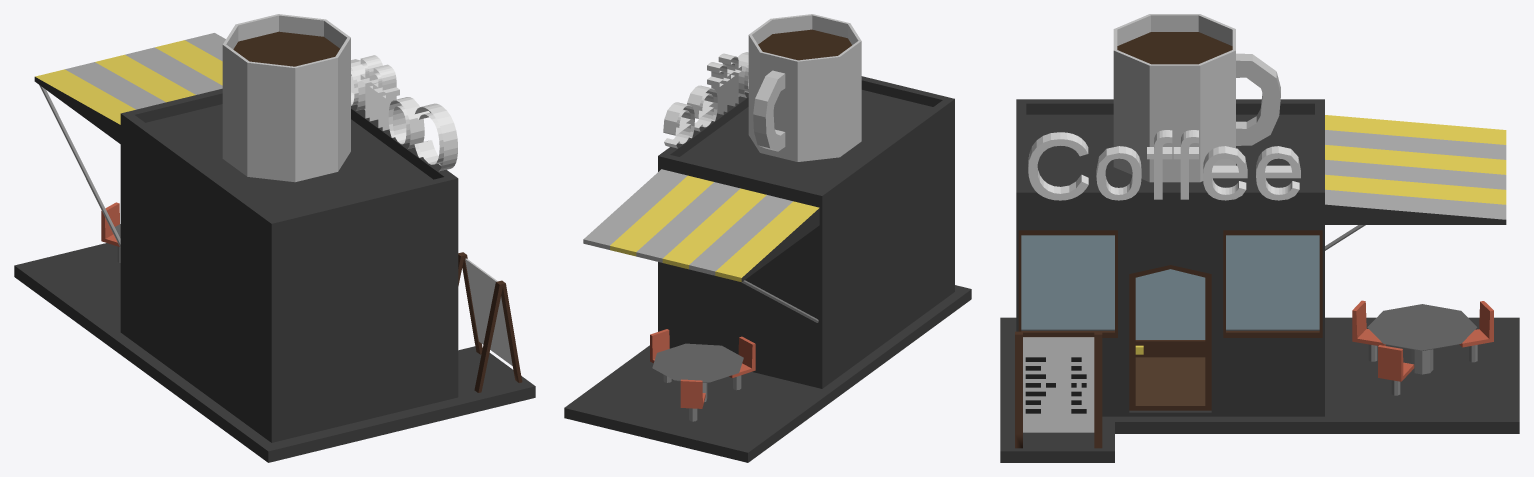
Rendered from coffe-mm.glb.
3 views of the same model, side by side, from view 1: azimuth 30°, elevation 25°; view 2: azimuth 150°, elevation 25°; view 3: azimuth 270°, elevation 25° (orthographic). The views are drawn at different scales.
Visible parts, largest first — view 1: coffe-mm; view 2: coffe-mm; view 3: coffe-mm.
Part boxes in pixels (x1,y1,x2,y2): coffe-mm: (14,14,535,462); coffe-mm: (564,14,971,462); coffe-mm: (1000,14,1519,462).
Bounding box in the file's own units: 3.8 × 4.54 × 6.26.
1 material, 1 textured.
